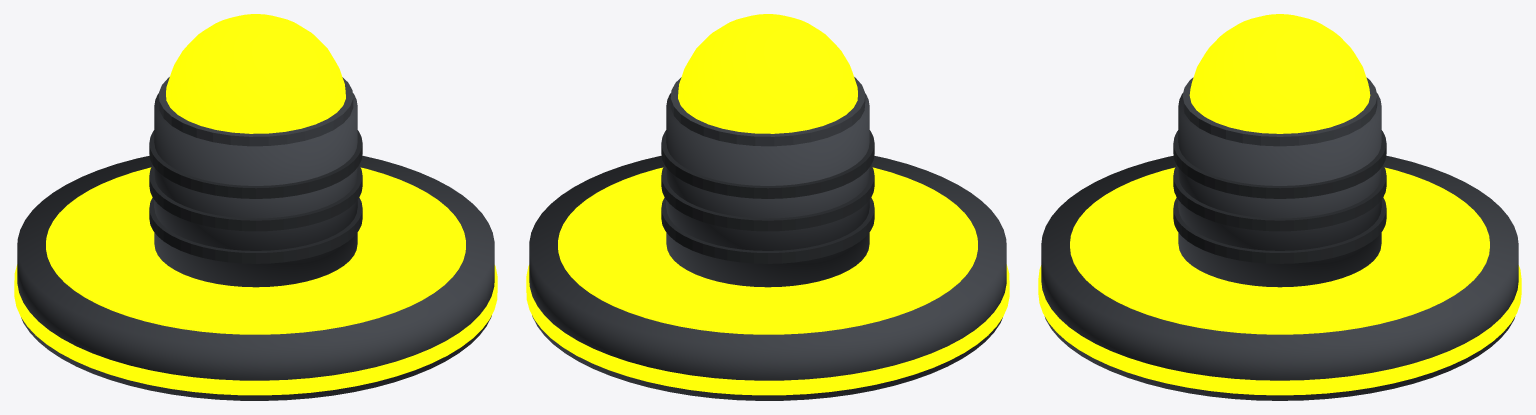
The model's file is rebatedor_cyber_pong_p2.glb.
3 views of the same model, side by side, from view 1: azimuth 30°, elevation 25°; view 2: azimuth 150°, elevation 25°; view 3: azimuth 270°, elevation 25° (orthographic).
Visible parts, largest first — view 1: Cylinder.002, Cylinder, Cylinder.003, Sphere, Cylinder.001, Cylinder.006, Cylinder.004, Cylinder.005, Cylinder.007; view 2: Cylinder.002, Cylinder, Cylinder.003, Sphere, Cylinder.001, Cylinder.006, Cylinder.004, Cylinder.005, Cylinder.007; view 3: Cylinder.002, Cylinder, Cylinder.003, Sphere, Cylinder.001, Cylinder.006, Cylinder.004, Cylinder.005, Cylinder.007.
Part boxes in pixels (<box>): Cylinder.002: <box>46,167,465,334</box>; Cylinder: <box>17,155,494,400</box>; Cylinder.003: <box>154,93,357,287</box>; Sphere: <box>166,14,345,133</box>; Cylinder.001: <box>14,264,497,395</box>; Cylinder.006: <box>149,130,362,198</box>; Cylinder.004: <box>149,197,362,263</box>; Cylinder.005: <box>149,165,362,231</box>; Cylinder.007: <box>158,77,353,146</box>; Cylinder.002: <box>558,167,977,334</box>; Cylinder: <box>529,155,1006,400</box>; Cylinder.003: <box>666,93,869,287</box>; Sphere: <box>678,14,857,133</box>; Cylinder.001: <box>526,264,1009,395</box>; Cylinder.006: <box>661,130,874,198</box>; Cylinder.004: <box>661,197,874,263</box>; Cylinder.005: <box>661,165,874,231</box>; Cylinder.007: <box>670,77,865,146</box>; Cylinder.002: <box>1070,167,1489,334</box>; Cylinder: <box>1041,155,1518,400</box>; Cylinder.003: <box>1178,93,1381,287</box>; Sphere: <box>1189,14,1370,133</box>; Cylinder.001: <box>1038,265,1521,395</box>; Cylinder.006: <box>1173,130,1386,198</box>; Cylinder.004: <box>1173,197,1386,263</box>; Cylinder.005: <box>1173,165,1386,231</box>; Cylinder.007: <box>1182,77,1377,146</box>.
Size of the model in its own units: 0.1619 by 0.1032 by 0.1619.
